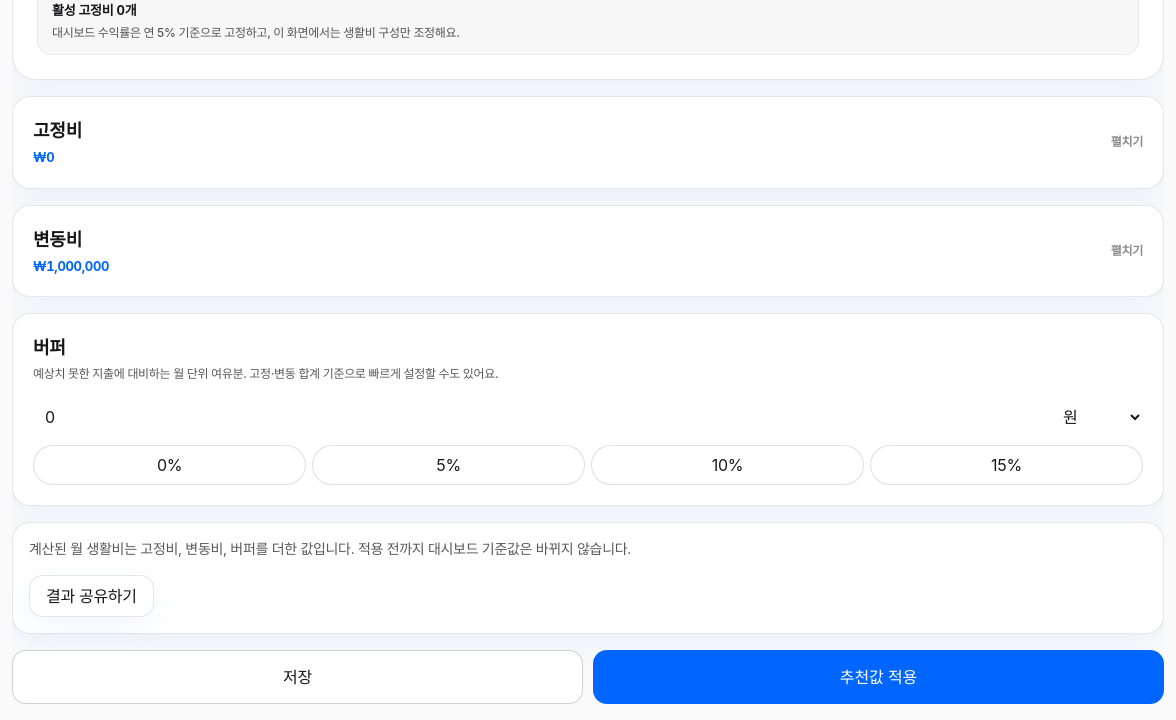
FixedCostSimulator › lets a user set buffer from a preset
The width and height of the screenshot is (1176, 720).
(page scrolled)
Click the button "10%" at (728, 465), box 591,445 -> 864,485
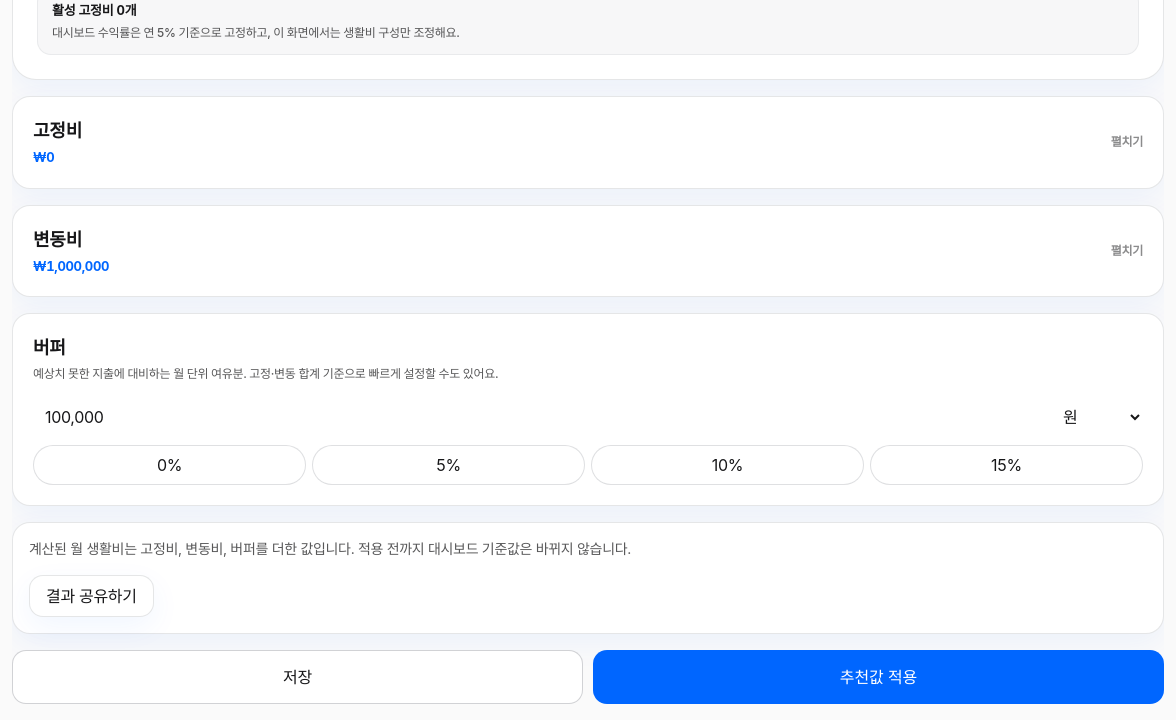
Check: the field named "버퍼 금액" holds "100,000", box 33,397 -> 1051,437
